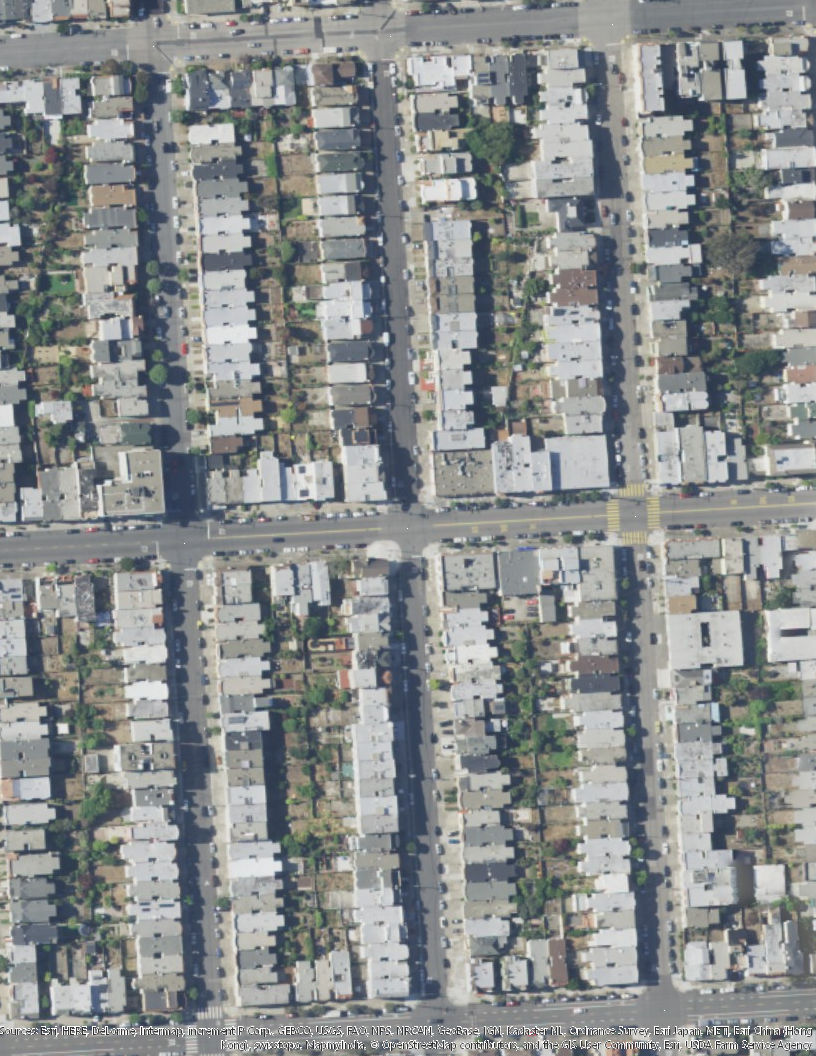zebracross: (647, 498, 662, 531), (191, 1005, 222, 1020), (183, 1023, 198, 1054), (620, 482, 647, 499), (619, 530, 648, 544), (225, 1019, 236, 1053), (607, 499, 618, 531)
